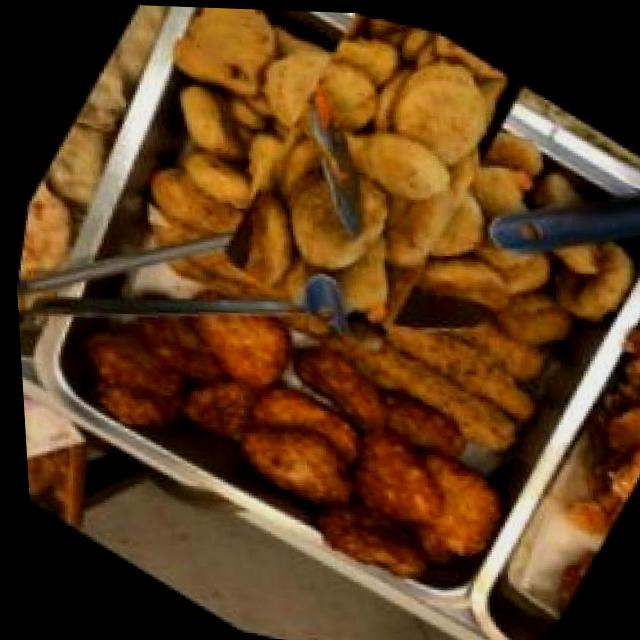chicken_nuggets: (175, 5, 571, 361)
triangle_hash_brown: (46, 241, 528, 610)
